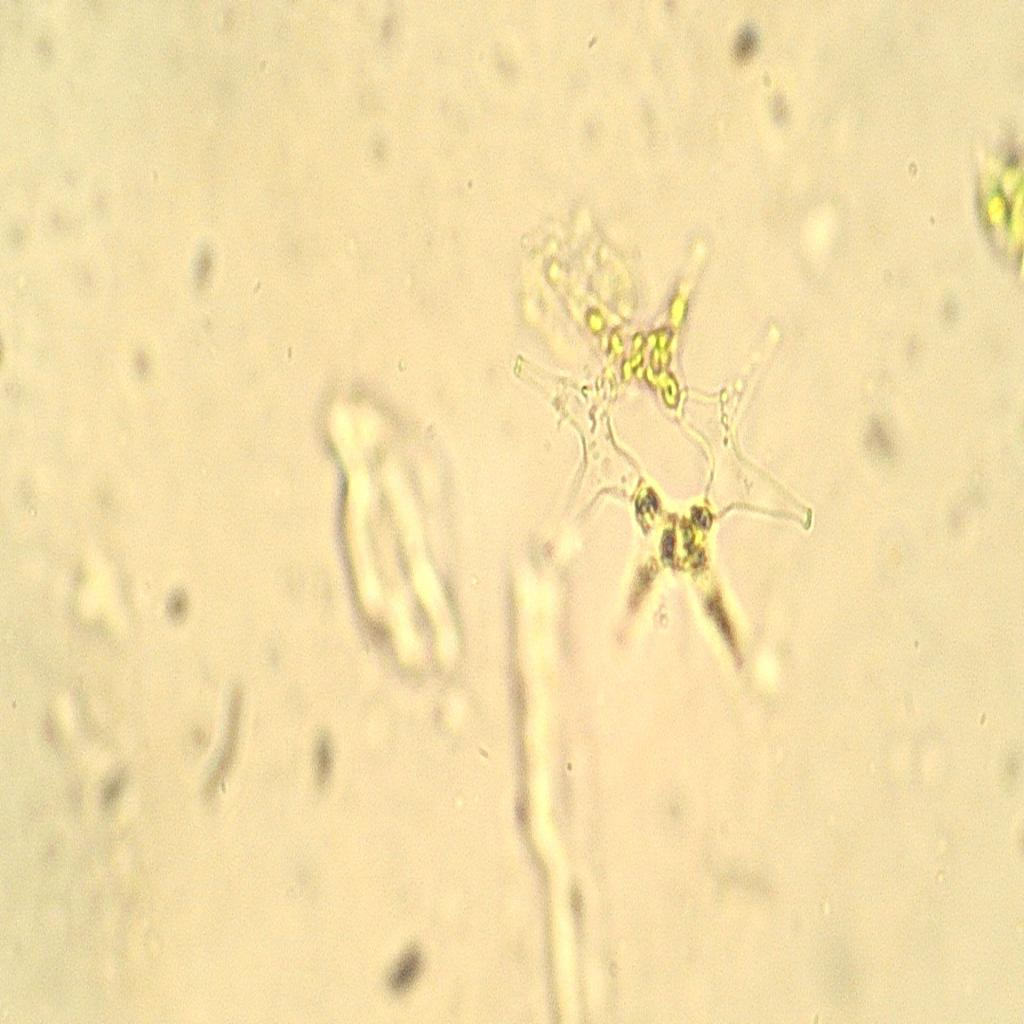Pediastrum_75TH: (498, 149, 826, 714)
